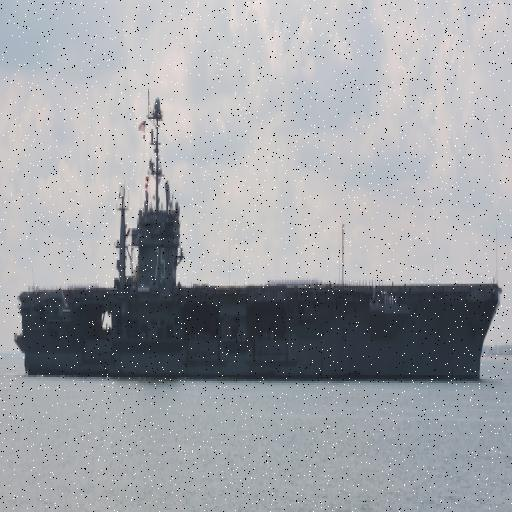Portanaves: (13, 82, 507, 384)
